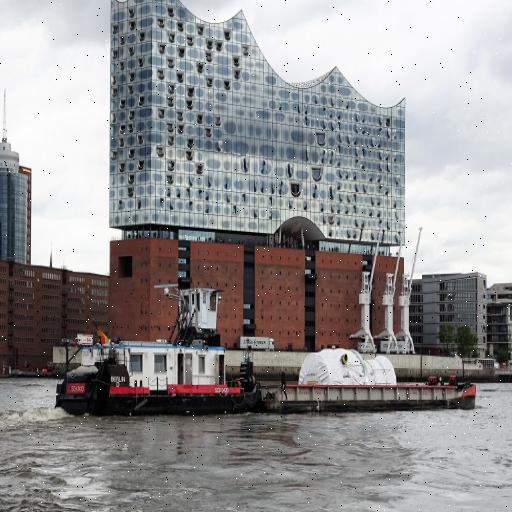tugboat: (54, 278, 262, 426)
